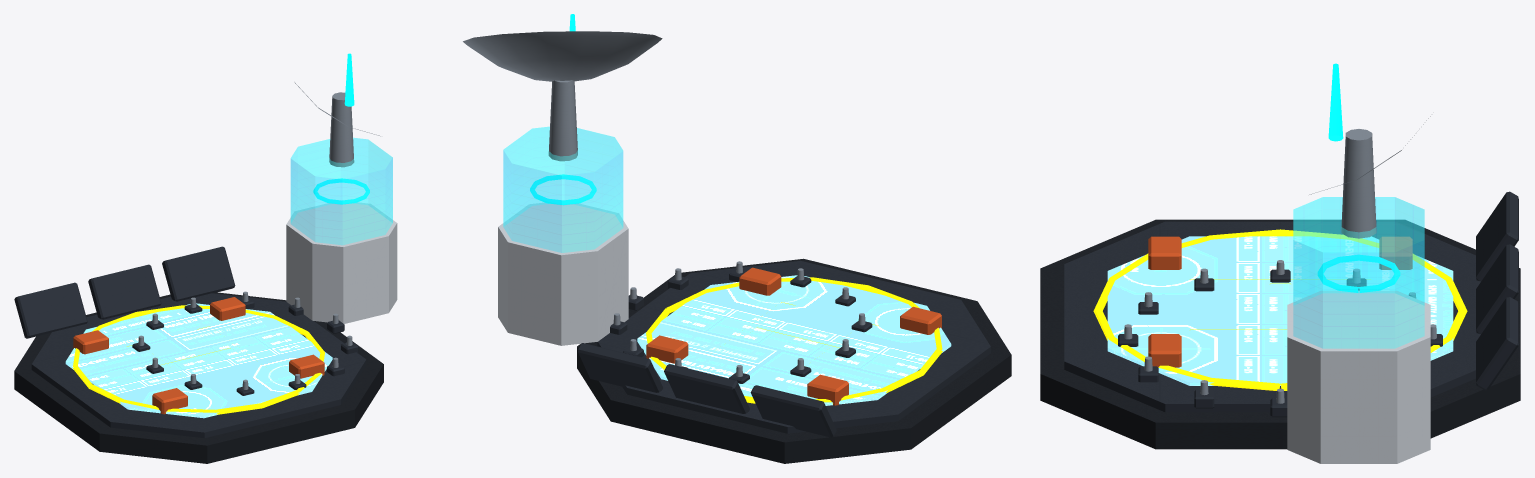
The model's file is prop_05_r1_02.glb.
The picture shows the model from 3 angles, left to right: view 1: azimuth 30°, elevation 25°; view 2: azimuth 150°, elevation 25°; view 3: azimuth 270°, elevation 25°; orthographic projection. The views are drawn at different scales.
Visible parts, largest first — view 1: Prop05_C02_carbon_slate, Prop05_C02_marquee, Prop05_C02_aero_white, Prop05_C02_gunmetal, Prop05_C02_glass_cyan, Prop05_C02_accent_orange, Prop05_C02_steel_machined, Prop05_C02_led_amber, Prop05_C02_led_cyan; view 2: Prop05_C02_marquee, Prop05_C02_carbon_slate, Prop05_C02_aero_white, Prop05_C02_gunmetal, Prop05_C02_glass_cyan, Prop05_C02_steel_machined, Prop05_C02_accent_orange, Prop05_C02_led_amber, Prop05_C02_led_cyan; view 3: Prop05_C02_carbon_slate, Prop05_C02_marquee, Prop05_C02_aero_white, Prop05_C02_glass_cyan, Prop05_C02_gunmetal, Prop05_C02_steel_machined, Prop05_C02_led_amber, Prop05_C02_accent_orange, Prop05_C02_led_cyan.
Part boxes in pixels (bbox=[...]): Prop05_C02_carbon_slate: bbox=[14, 246, 366, 438]; Prop05_C02_marquee: bbox=[65, 303, 332, 418]; Prop05_C02_aero_white: bbox=[286, 202, 397, 323]; Prop05_C02_gunmetal: bbox=[14, 292, 383, 463]; Prop05_C02_glass_cyan: bbox=[290, 137, 392, 244]; Prop05_C02_accent_orange: bbox=[73, 297, 324, 414]; Prop05_C02_steel_machined: bbox=[138, 82, 380, 389]; Prop05_C02_led_amber: bbox=[72, 305, 324, 414]; Prop05_C02_led_cyan: bbox=[313, 53, 369, 204]; Prop05_C02_marquee: bbox=[637, 275, 951, 405]; Prop05_C02_carbon_slate: bbox=[577, 260, 990, 437]; Prop05_C02_aero_white: bbox=[498, 203, 628, 345]; Prop05_C02_gunmetal: bbox=[577, 258, 1011, 463]; Prop05_C02_glass_cyan: bbox=[503, 126, 623, 252]; Prop05_C02_steel_machined: bbox=[463, 31, 865, 376]; Prop05_C02_accent_orange: bbox=[646, 267, 941, 405]; Prop05_C02_led_amber: bbox=[646, 277, 942, 403]; Prop05_C02_led_cyan: bbox=[530, 14, 596, 205]; Prop05_C02_carbon_slate: bbox=[1064, 191, 1518, 417]; Prop05_C02_marquee: bbox=[1107, 236, 1453, 385]; Prop05_C02_aero_white: bbox=[1287, 291, 1430, 463]; Prop05_C02_glass_cyan: bbox=[1293, 197, 1424, 348]; Prop05_C02_gunmetal: bbox=[1040, 219, 1520, 449]; Prop05_C02_steel_machined: bbox=[1124, 116, 1436, 403]; Prop05_C02_led_amber: bbox=[1093, 229, 1467, 390]; Prop05_C02_accent_orange: bbox=[1148, 236, 1412, 367]; Prop05_C02_led_cyan: bbox=[1317, 63, 1400, 292].
Bounding box in the file's own units: 7.15 × 5.08 × 5.2.
Materials: 9 (9 with a texture image).
